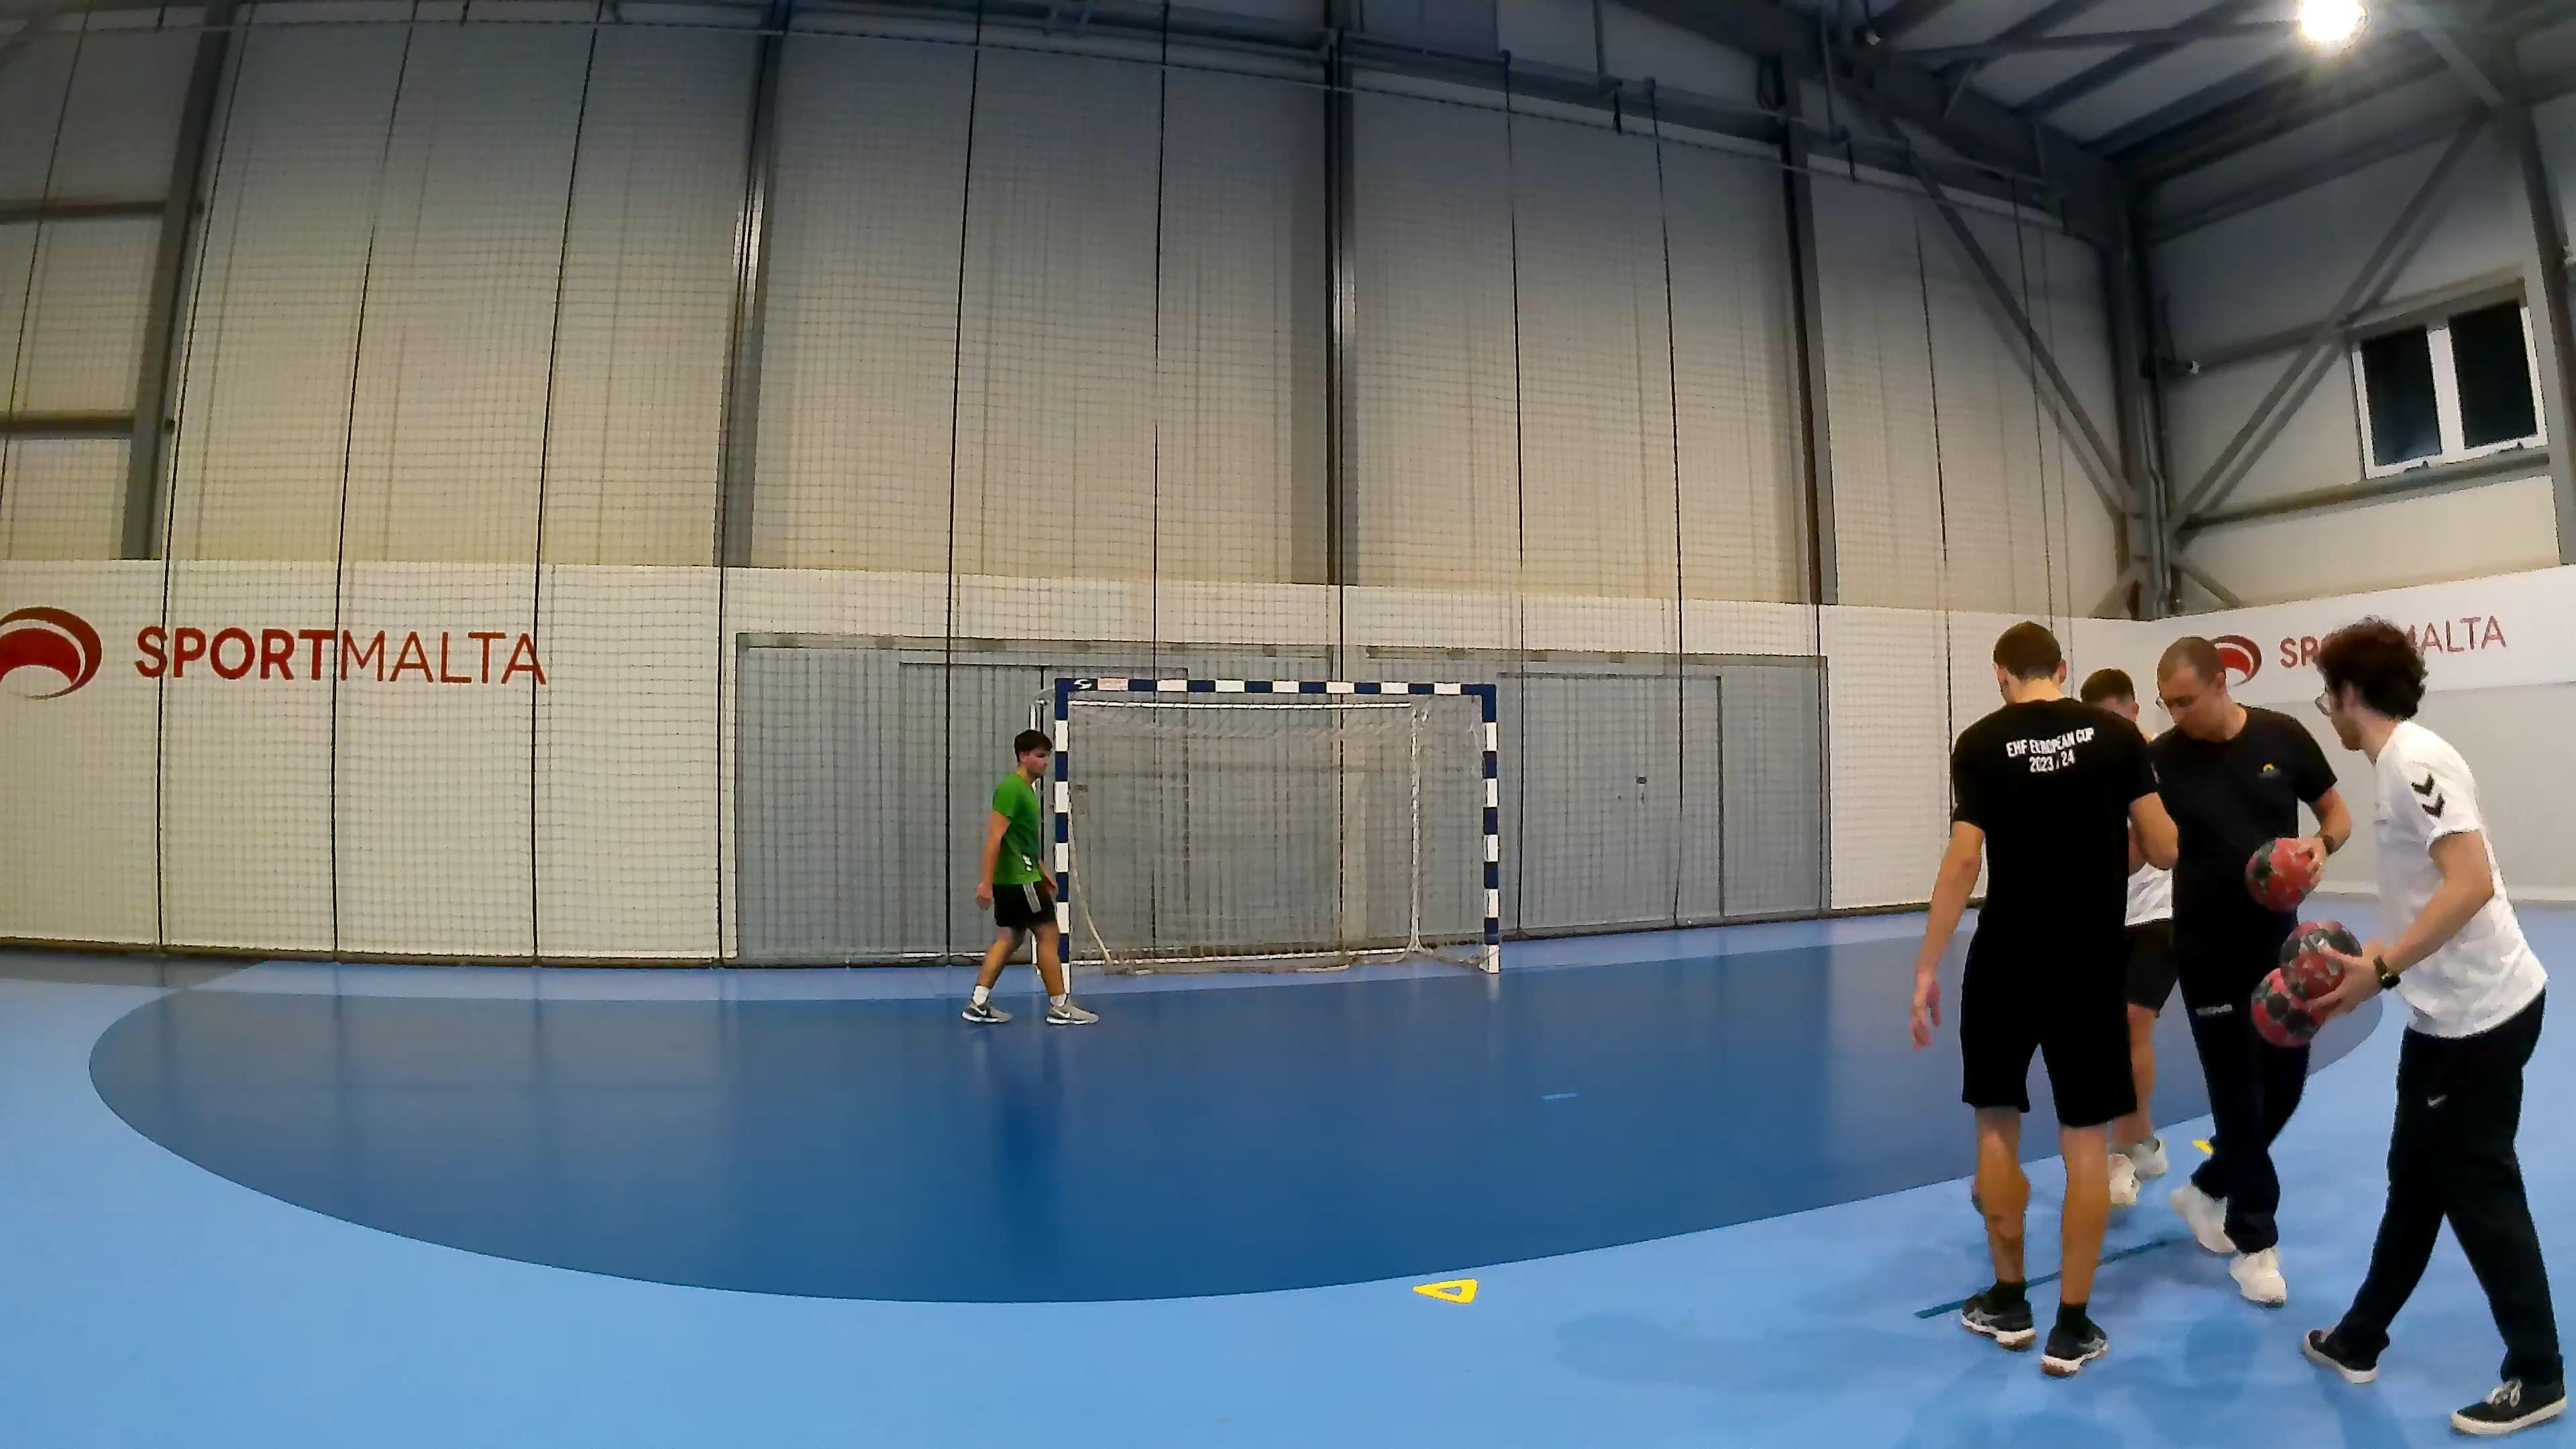handball: (2249, 916, 2362, 1049), (2243, 835, 2321, 911)
